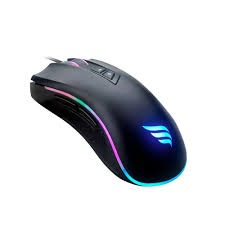mouse: (25, 50, 194, 193)
